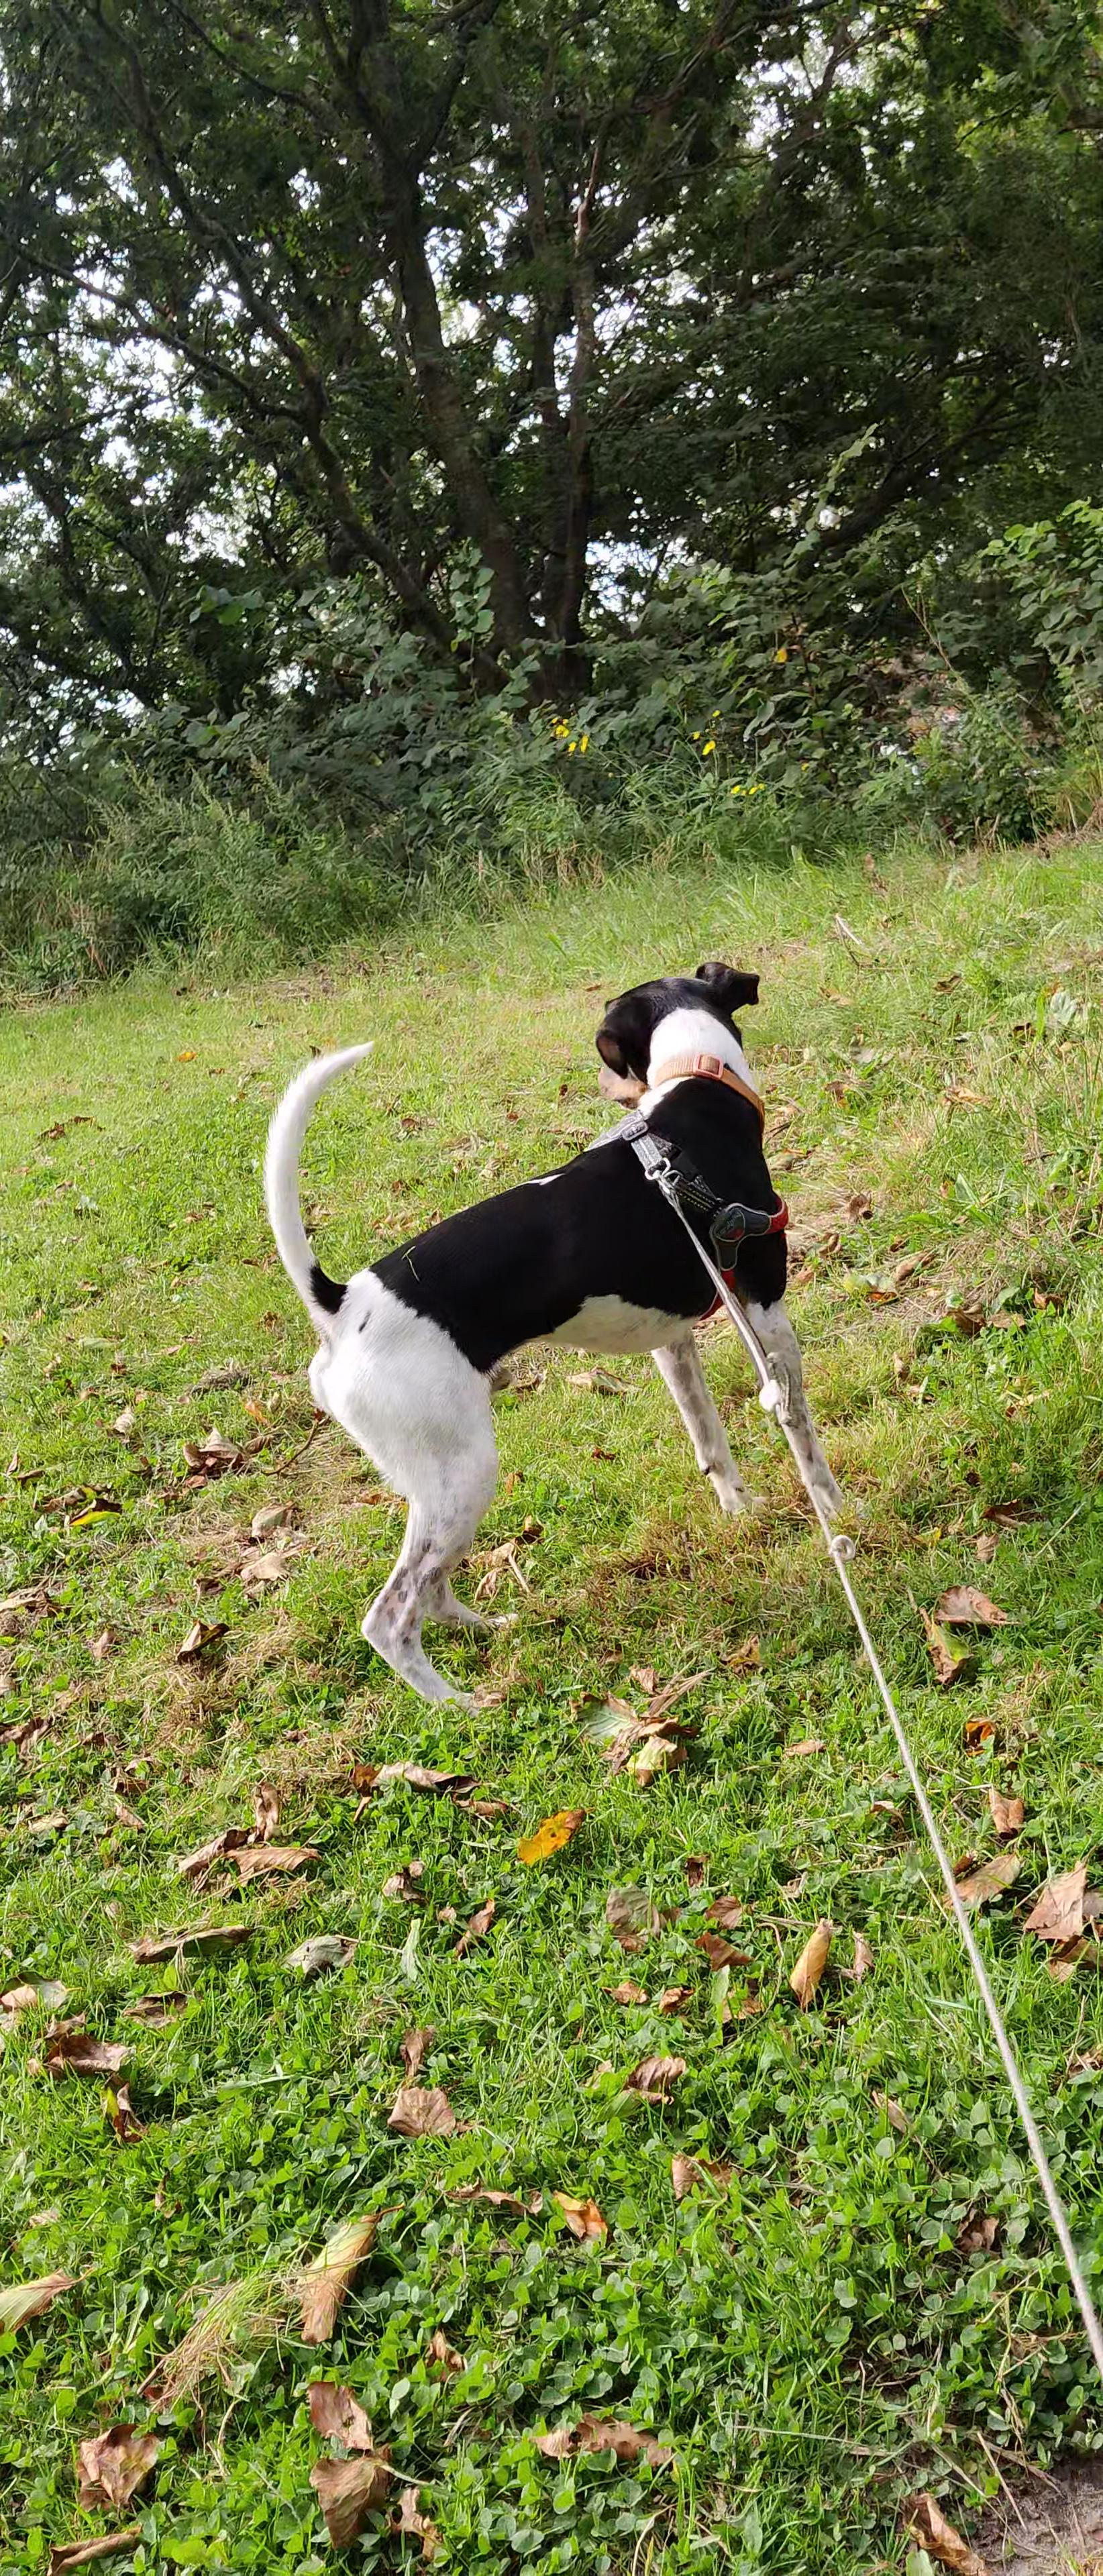Dog: (258, 954, 866, 1707)
